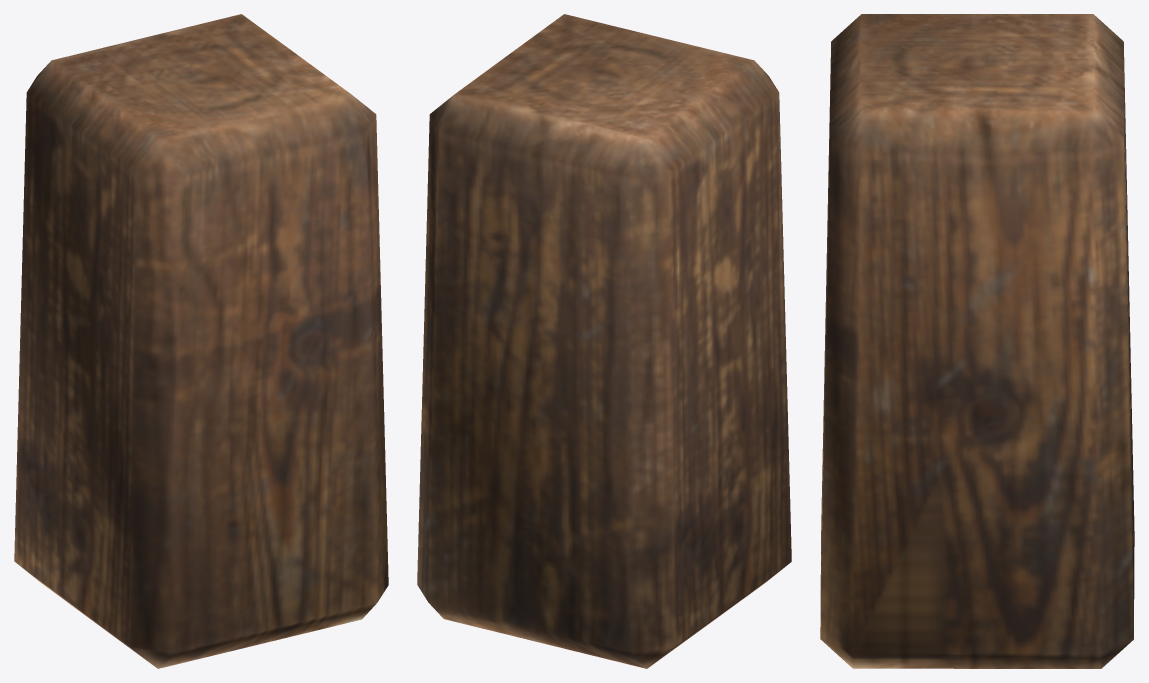
The model's file is Beams 1.fbx.
3 views of the same model, side by side, from view 1: azimuth 30°, elevation 25°; view 2: azimuth 150°, elevation 25°; view 3: azimuth 270°, elevation 25° (orthographic). The views are drawn at different scales.
Parts seen in each view (by area): view 1: Beams 1; view 2: Beams 1; view 3: Beams 1.
Part boxes in pixels (x1,y1,x2,y2): Beams 1: (14,14,388,668); Beams 1: (417,14,791,668); Beams 1: (820,14,1134,668).
Bounding box in the file's own units: 0.3041 × 0.591 × 0.3041.
